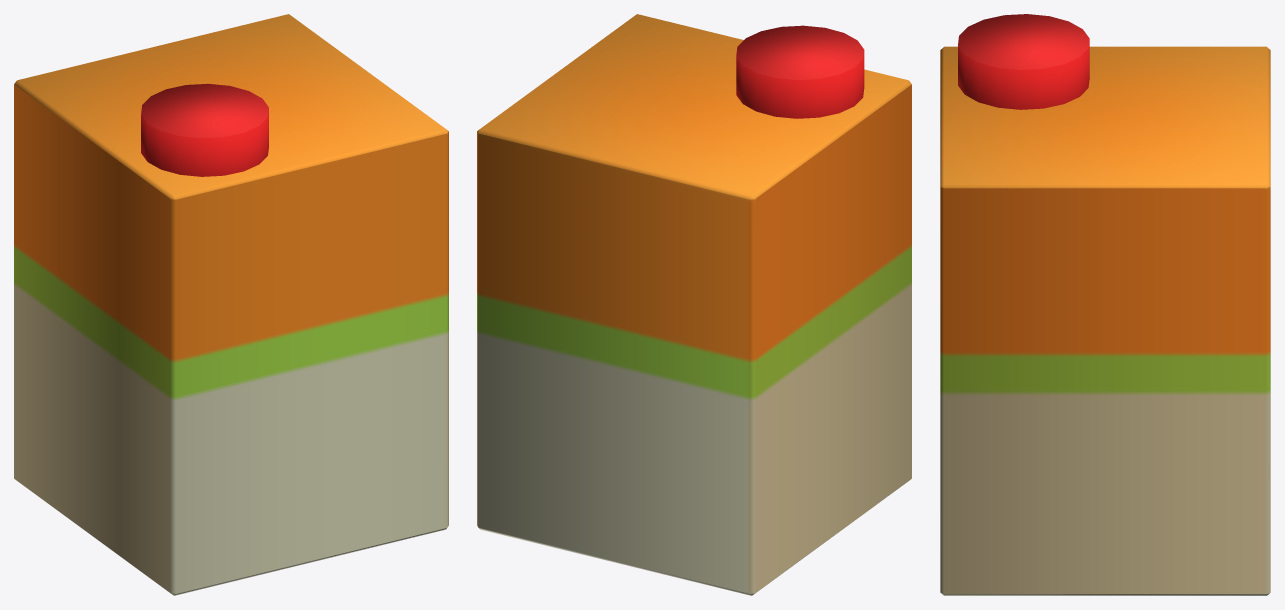
The model's file is FOD0110011.fbx.
The picture shows the model from 3 angles, left to right: view 1: azimuth 30°, elevation 25°; view 2: azimuth 150°, elevation 25°; view 3: azimuth 270°, elevation 25°; orthographic projection. The views are drawn at different scales.
Parts seen in each view (by area): view 1: smFOD0110011; view 2: smFOD0110011; view 3: smFOD0110011.
Part boxes in pixels (left/top/right/bottom): smFOD0110011: left=14, top=14, right=448, bottom=595; smFOD0110011: left=477, top=14, right=911, bottom=595; smFOD0110011: left=940, top=14, right=1270, bottom=595.
Size of the model in its own units: 8.46 by 12.78 by 8.46.
Materials: 1 (1 with a texture image).
